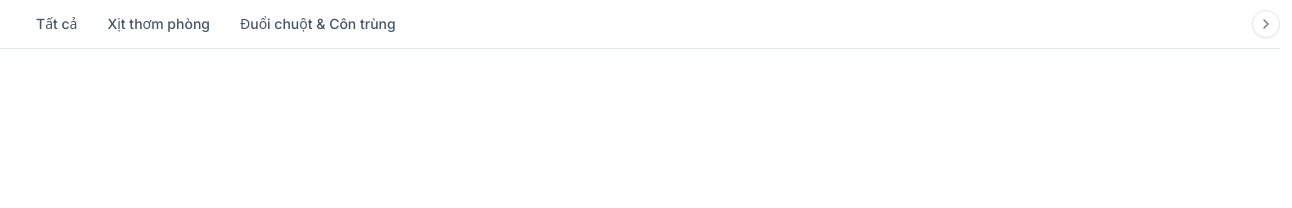
CategoryNav › shows subcategories dropdown on mouse hover and allows viewing all
The width and height of the screenshot is (1292, 208).
Hover over the link "Xịt thơm phòng": (159, 24) [107,15,210,32]
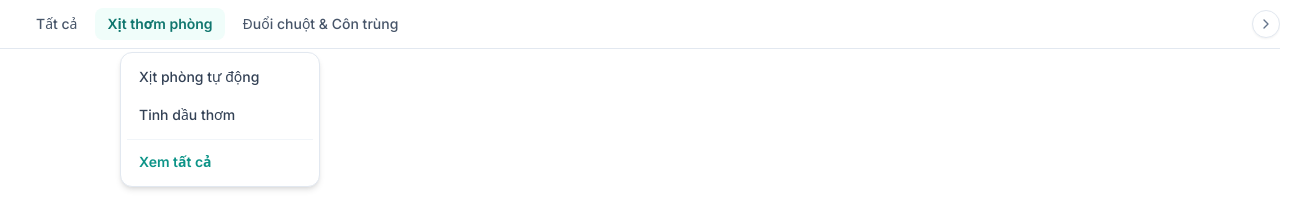
Hovering "Tất cả" closes the active category
Hover over the link "Tất cả": (57, 24) [36,15,77,32]
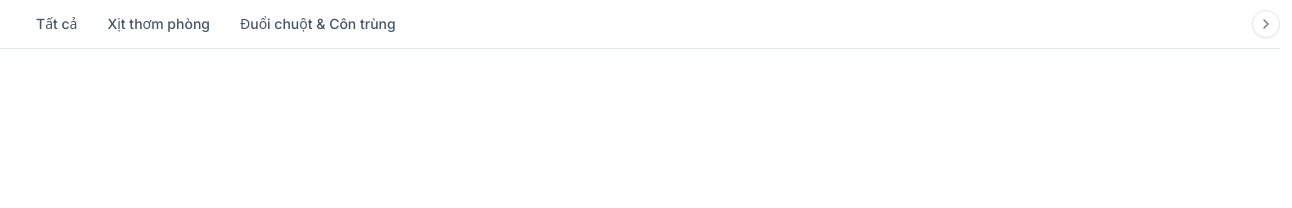
Expected: the link "Xem tất cả" is gone
